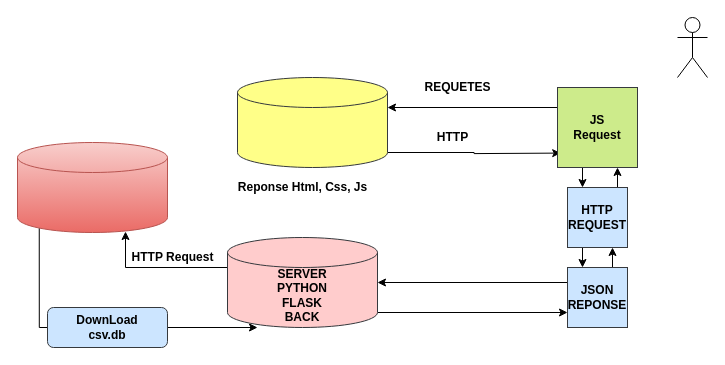
Image size: 725x365. Some labels were removed from this diagram. The centre of each missing label's shape, as x and y in pixels:
Client: pixel 692 47
DATA SERVER: pixel 92 187
FRONT: pixel 312 122
